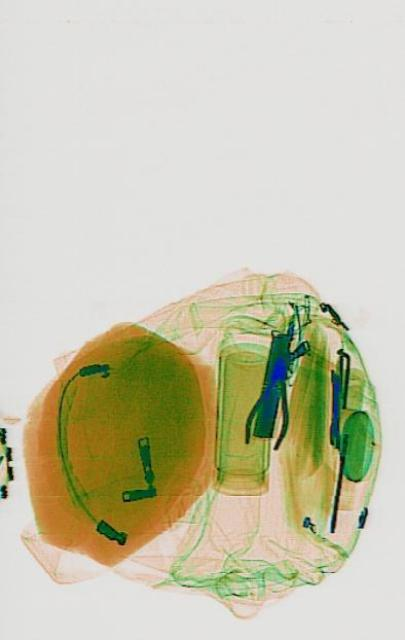Pliers: (239, 346, 300, 458)
